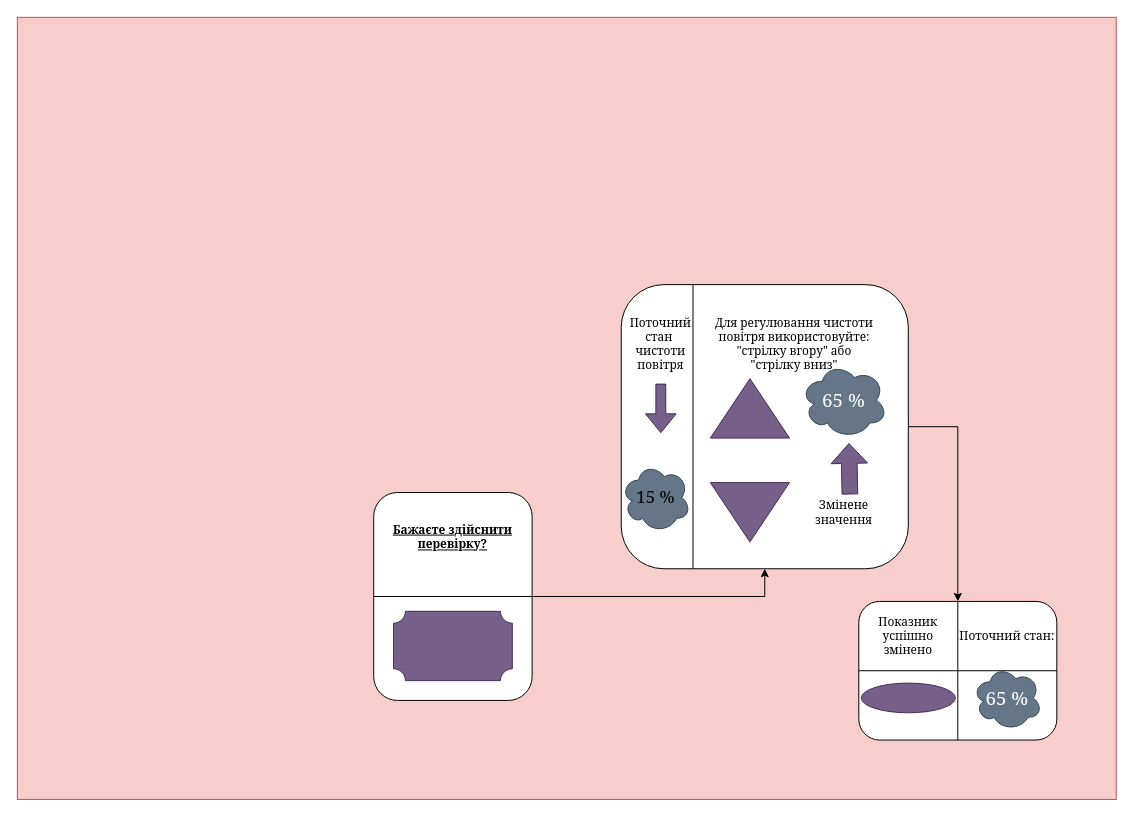
Some shapes in this 1134 by 817 pixel diagram are drawn without their labels. The shapes that lost their labels are listed below. From the top down, each one's box as (x1, y1, x2, y2) in pixels, then its label:
(393, 610, 512, 681): Натиснить "СЮДИ" для здійснення перевірки
(860, 682, 955, 713): Завершити?
